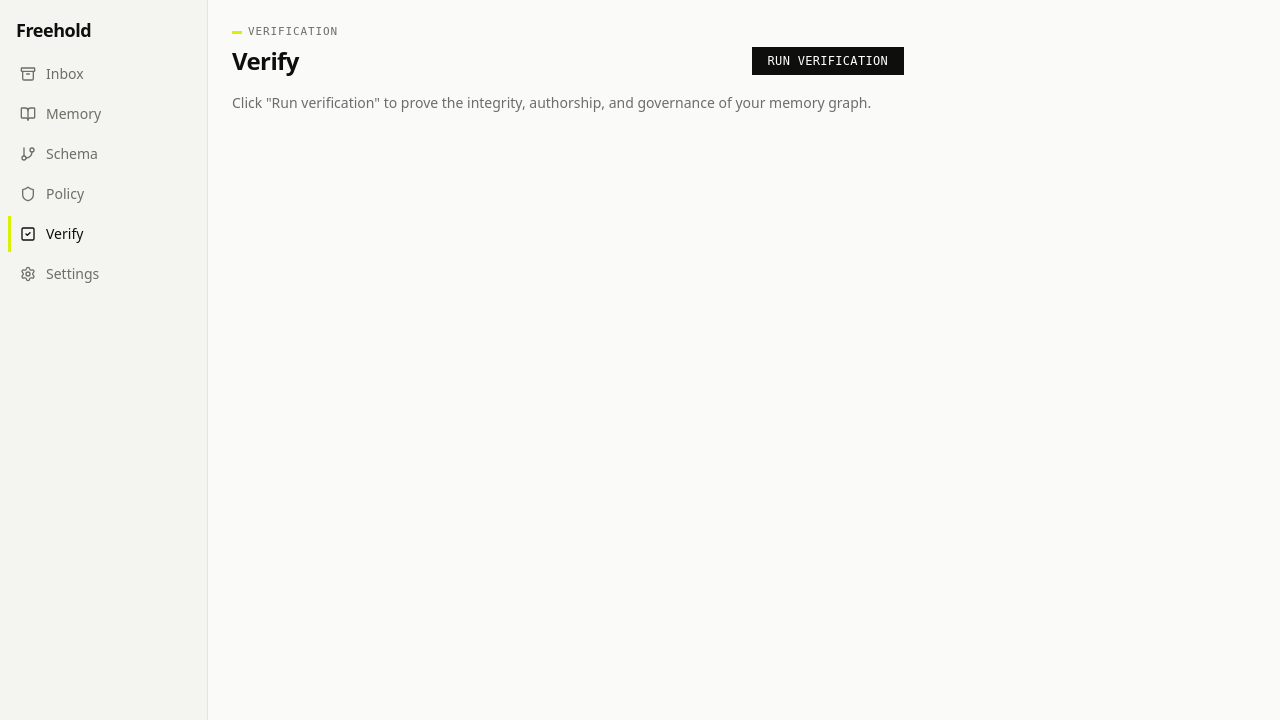
Test case: Verify › runs verify and shows healthy summary
Click the button with test id "verify-run". click: [828, 60]
box: [752,46,904,74]
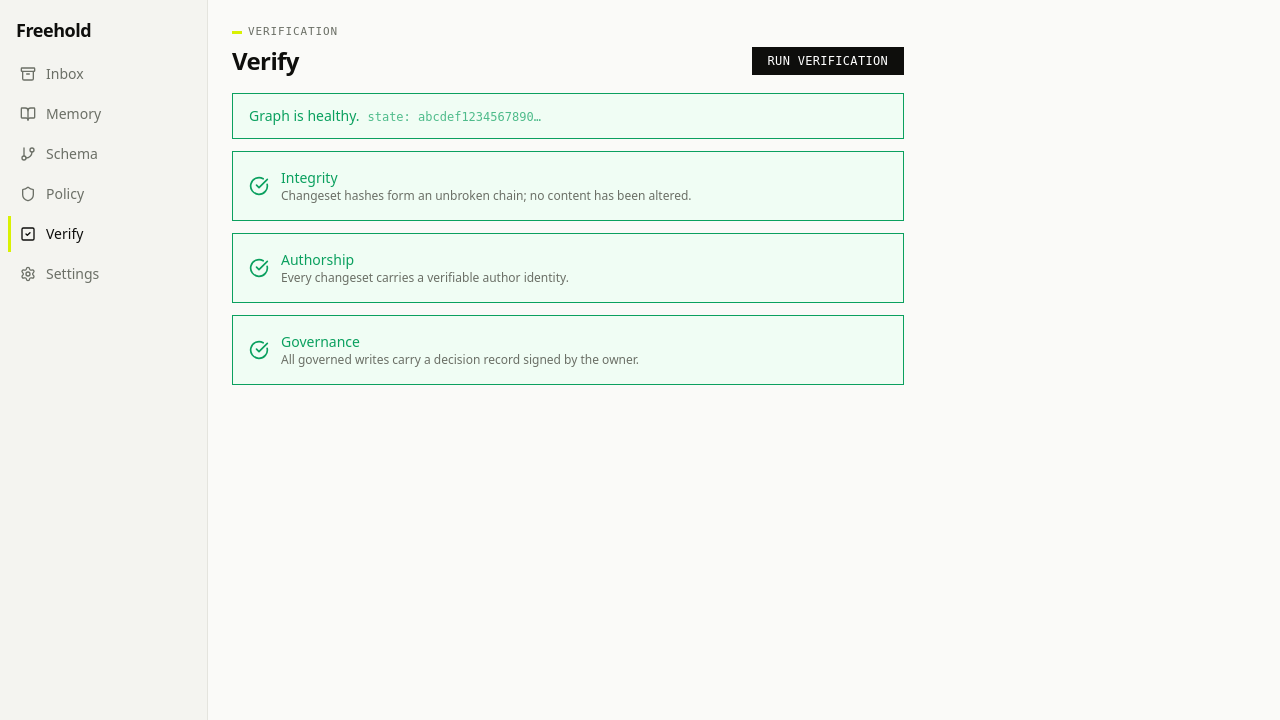
Check: the element with test id "verify-summary" is shown, box [232,92,904,138]
Check: the element with test id "verify-summary" shows "Graph is healthy", box [249,106,360,124]
